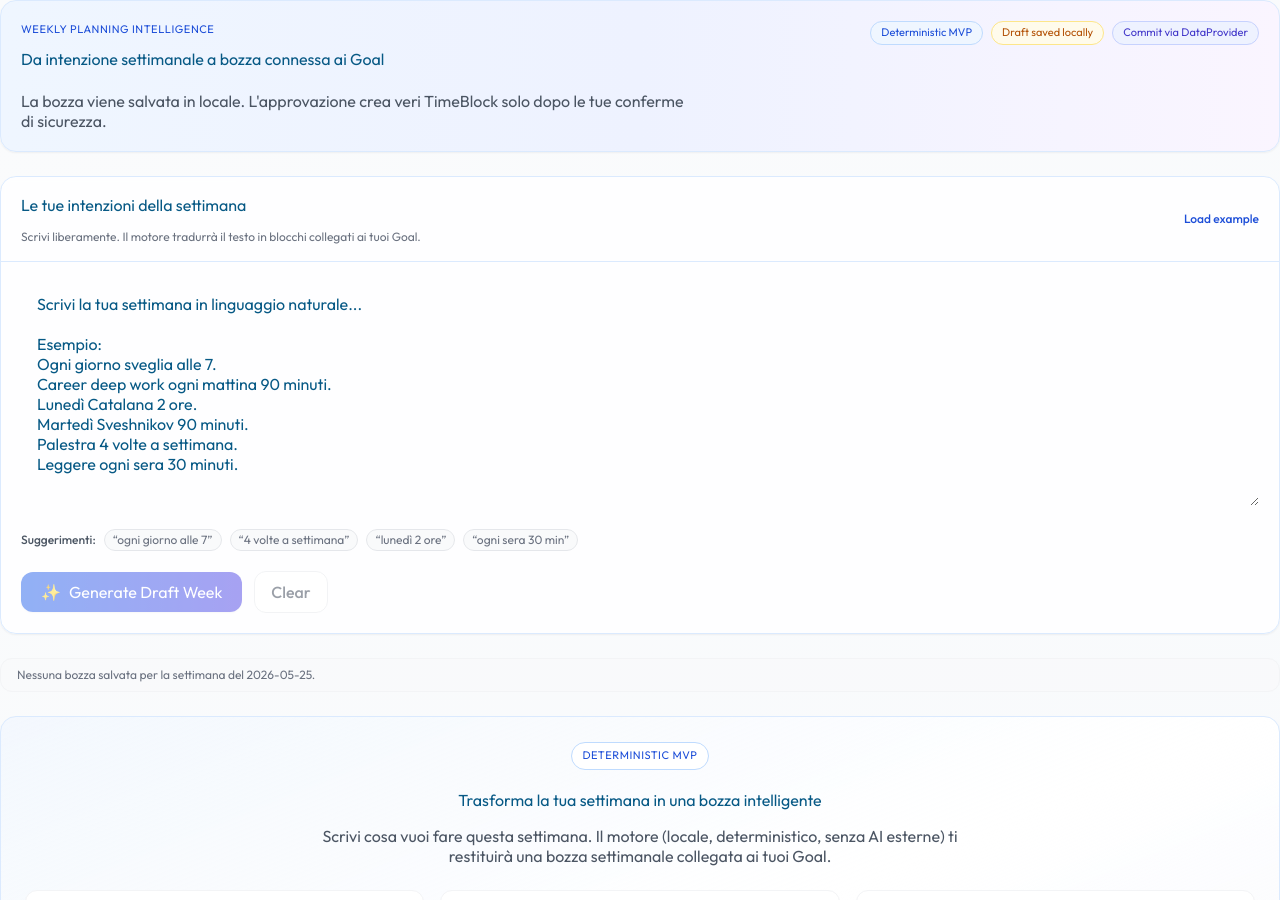
it: WeeklyPlanningView — smoke › Clear resets textarea, removes the draft, and deletes the saved draft
The width and height of the screenshot is (1280, 900).
Click the button "Load example": coordinates (1221, 219) [1184,211,1259,227]
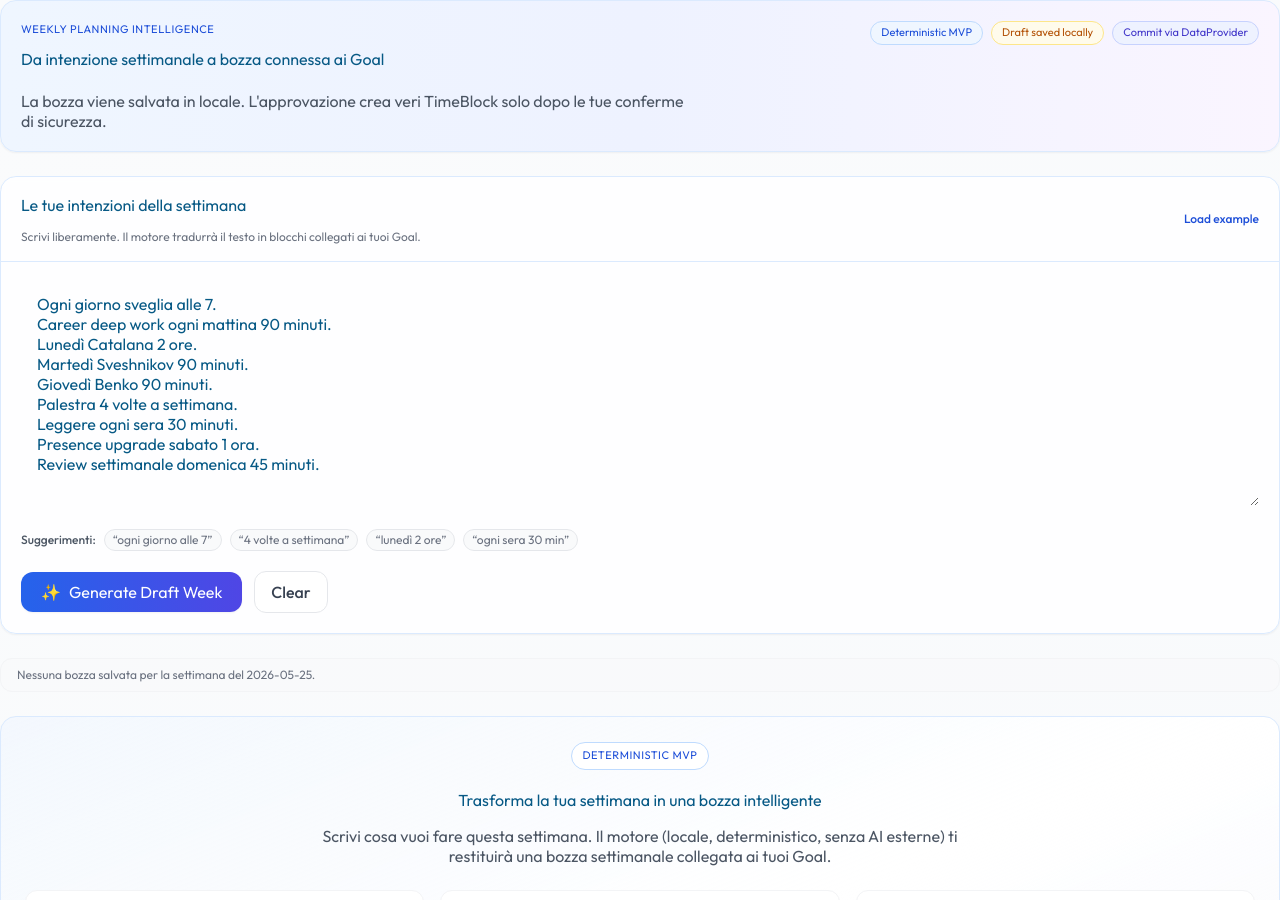
Click the button with test id "weekly-intent-generate": coordinates (132, 592) [21,572,242,612]
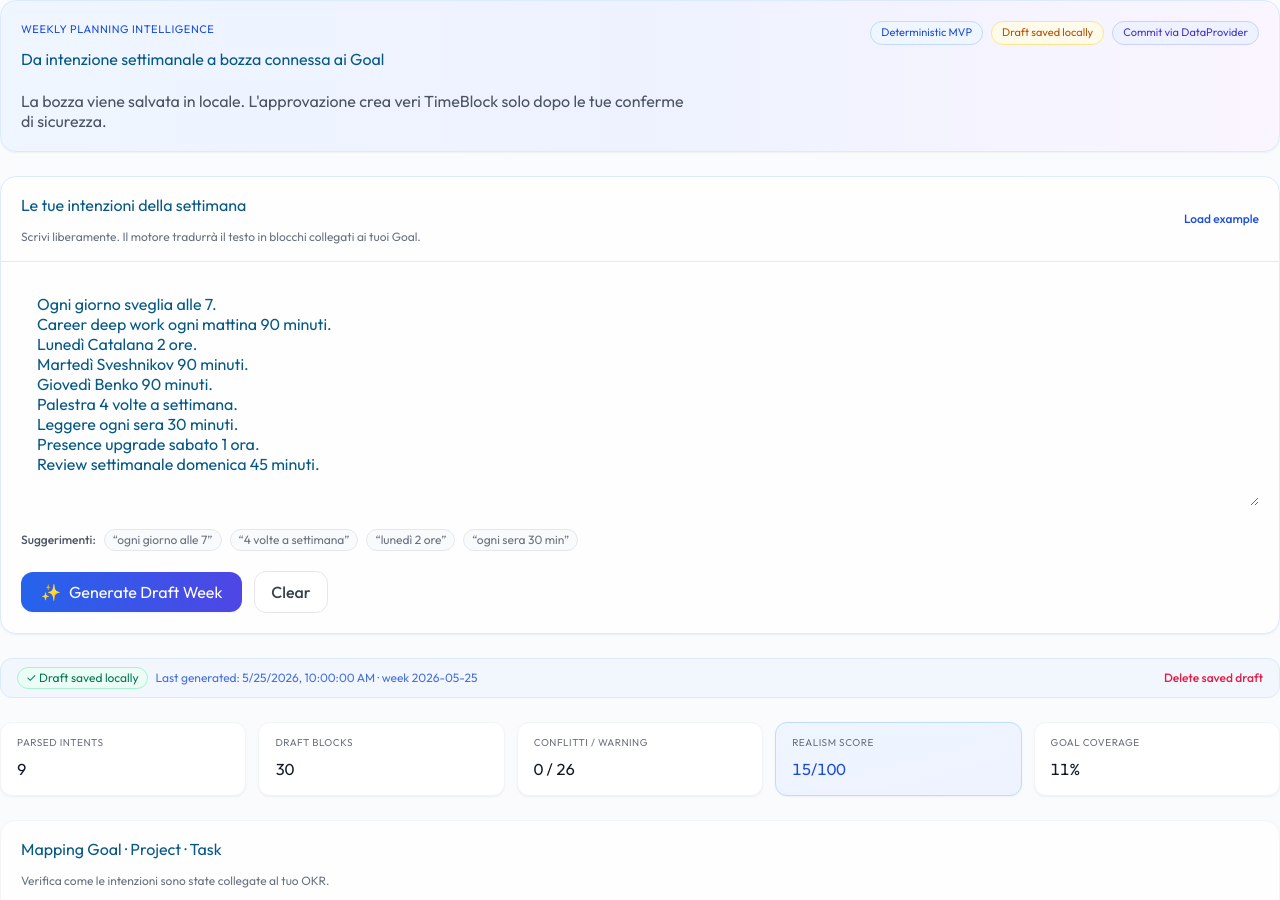
Click the button "Clear": coordinates (291, 592) [254,571,328,613]
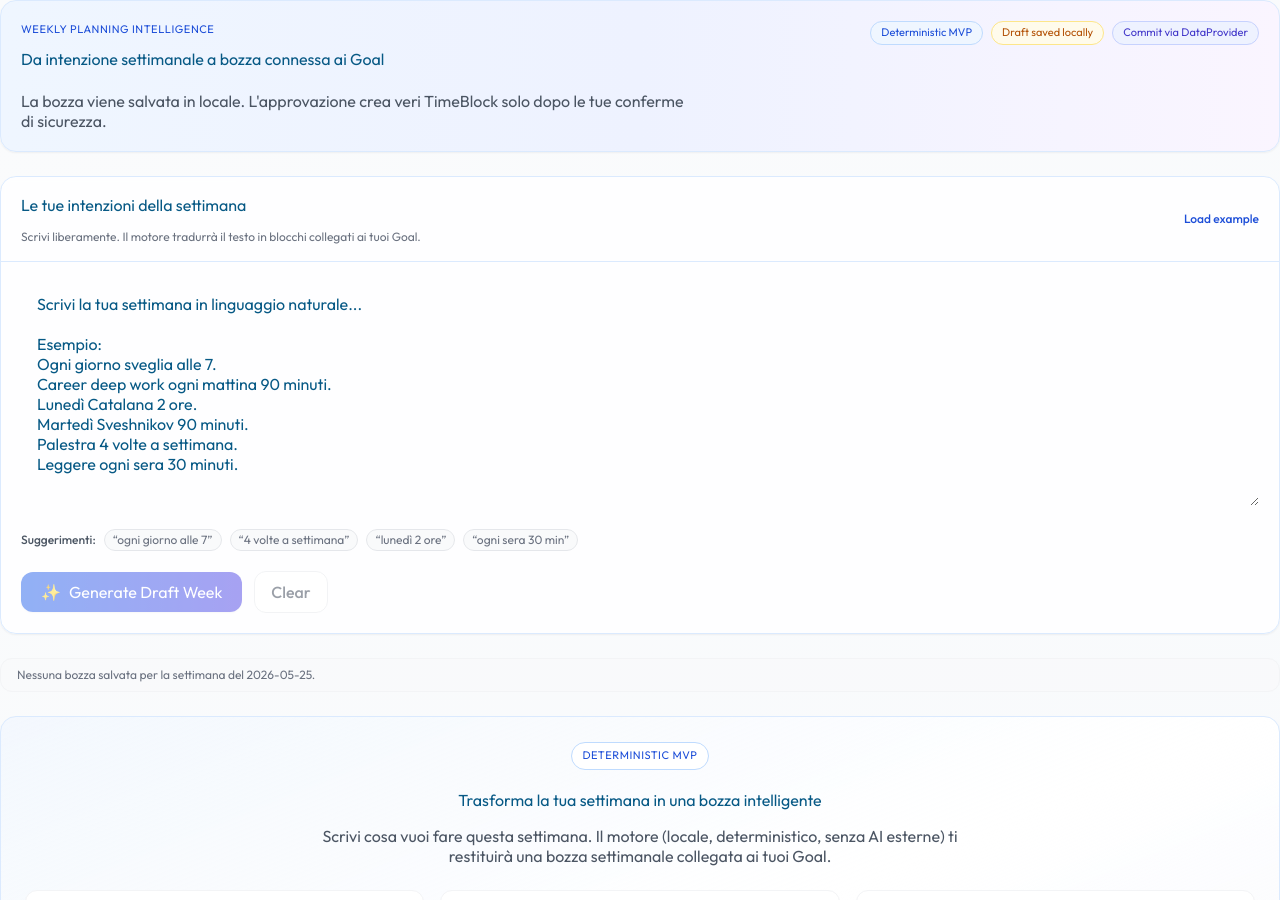
Now the text box with test id "weekly-intent-textarea" is empty, box [21,282,1259,506]
